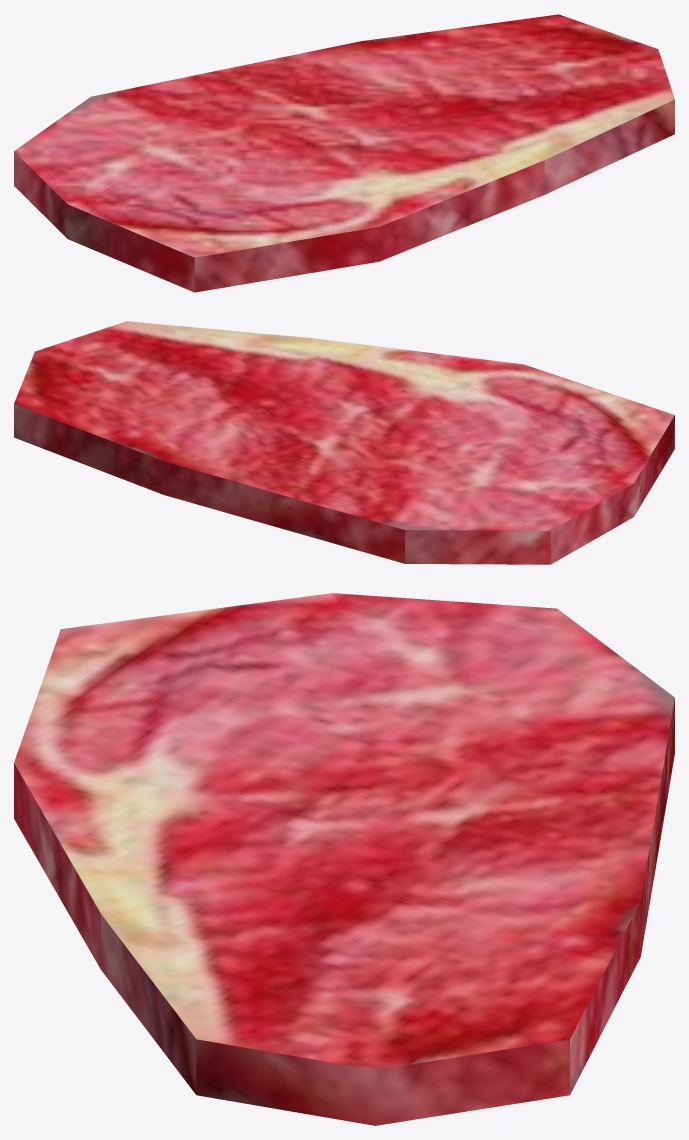
File: Raw_meat_02.glb
The picture shows the model from 3 angles, top to bottom: view 1: azimuth 30°, elevation 25°; view 2: azimuth 150°, elevation 25°; view 3: azimuth 270°, elevation 25°; orthographic projection. The views are drawn at different scales.
Parts seen in each view (by area): view 1: Raw_meat_02; view 2: Raw_meat_02; view 3: Raw_meat_02.
Part boxes in pixels (left/top/right/bottom): Raw_meat_02: left=14, top=14, right=674, bottom=292; Raw_meat_02: left=14, top=321, right=674, bottom=564; Raw_meat_02: left=14, top=593, right=674, bottom=1125.
Size of the model in its own units: 0.3395 by 0.0197 by 0.2001.
Materials: 1 (1 with a texture image).
